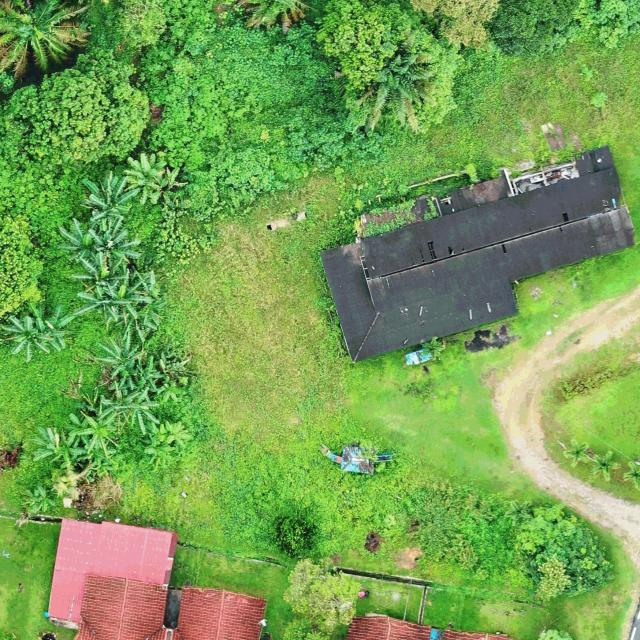Tree: (0, 43, 156, 164), (518, 499, 612, 600), (315, 0, 410, 92), (0, 0, 90, 74), (284, 556, 361, 630), (406, 0, 502, 50), (56, 217, 141, 265), (74, 271, 155, 320), (122, 152, 188, 205), (80, 170, 140, 221), (94, 335, 146, 391), (66, 409, 117, 459), (0, 315, 54, 362), (242, 0, 320, 31), (70, 256, 128, 297), (115, 386, 161, 436), (144, 421, 192, 468), (28, 302, 75, 348), (31, 426, 81, 468), (116, 302, 169, 339), (100, 381, 139, 424), (278, 616, 333, 640)
